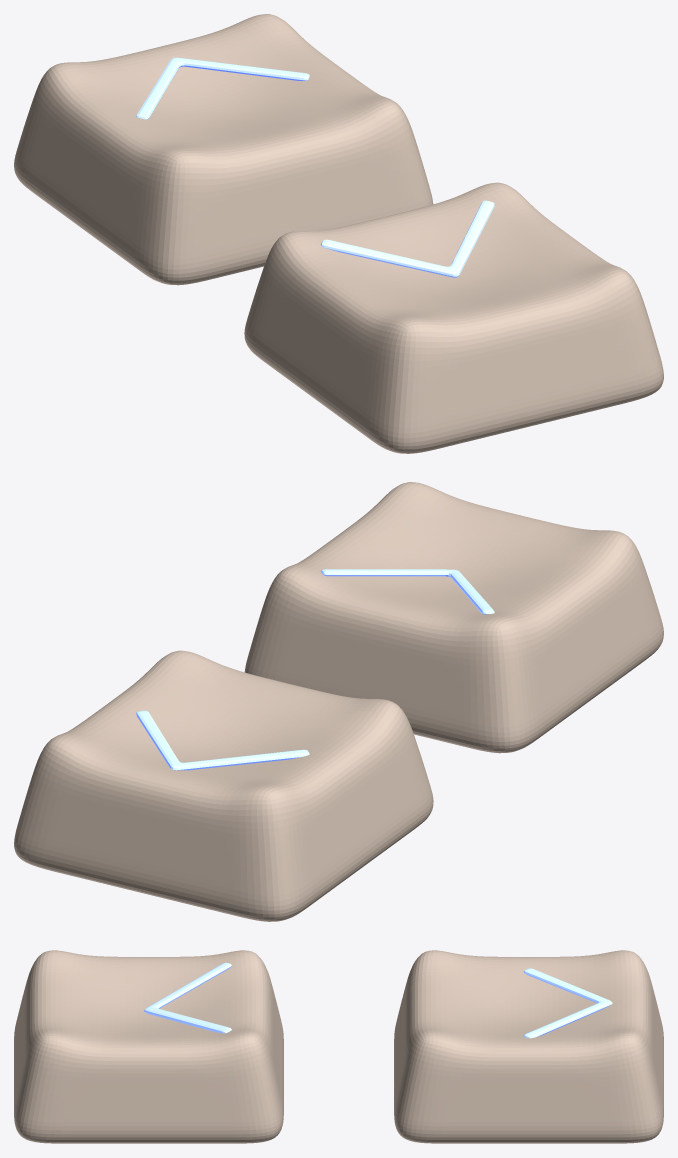
Rendered from keyboard_arrows.glb.
3 views of the same model, one above another, from view 1: azimuth 30°, elevation 25°; view 2: azimuth 150°, elevation 25°; view 3: azimuth 270°, elevation 25° (orthographic). The views are drawn at different scales.
Parts seen in each view (by area): view 1: ArrowDown, ArrowUp, TextDown, TextUp; view 2: ArrowUp, ArrowDown, TextUp, TextDown; view 3: ArrowDown, ArrowUp, TextUp, TextDown.
Part boxes in pixels (left/top/right/bottom): ArrowDown: left=244, top=182, right=663, bottom=453; ArrowUp: left=14, top=14, right=433, bottom=285; TextDown: left=321, top=200, right=494, bottom=277; TextUp: left=136, top=57, right=309, bottom=119; ArrowUp: left=14, top=650, right=433, bottom=921; ArrowDown: left=244, top=482, right=663, bottom=753; TextUp: left=136, top=710, right=309, bottom=770; TextDown: left=321, top=569, right=494, bottom=614; ArrowDown: left=14, top=950, right=283, bottom=1143; ArrowUp: left=394, top=950, right=663, bottom=1143; TextUp: left=523, top=968, right=612, bottom=1038; TextDown: left=144, top=962, right=231, bottom=1033.
Bounding box in the file's own units: 0.964 × 0.3958 × 2.32.
